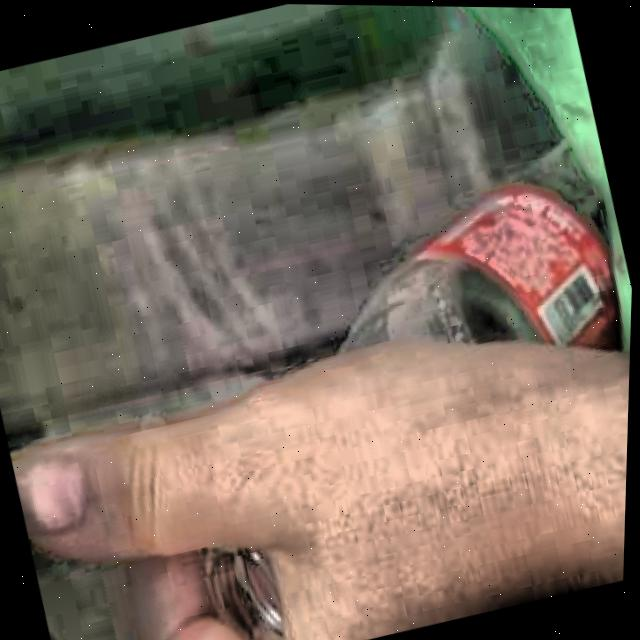glass: (345, 139, 622, 348), (210, 544, 288, 640)
